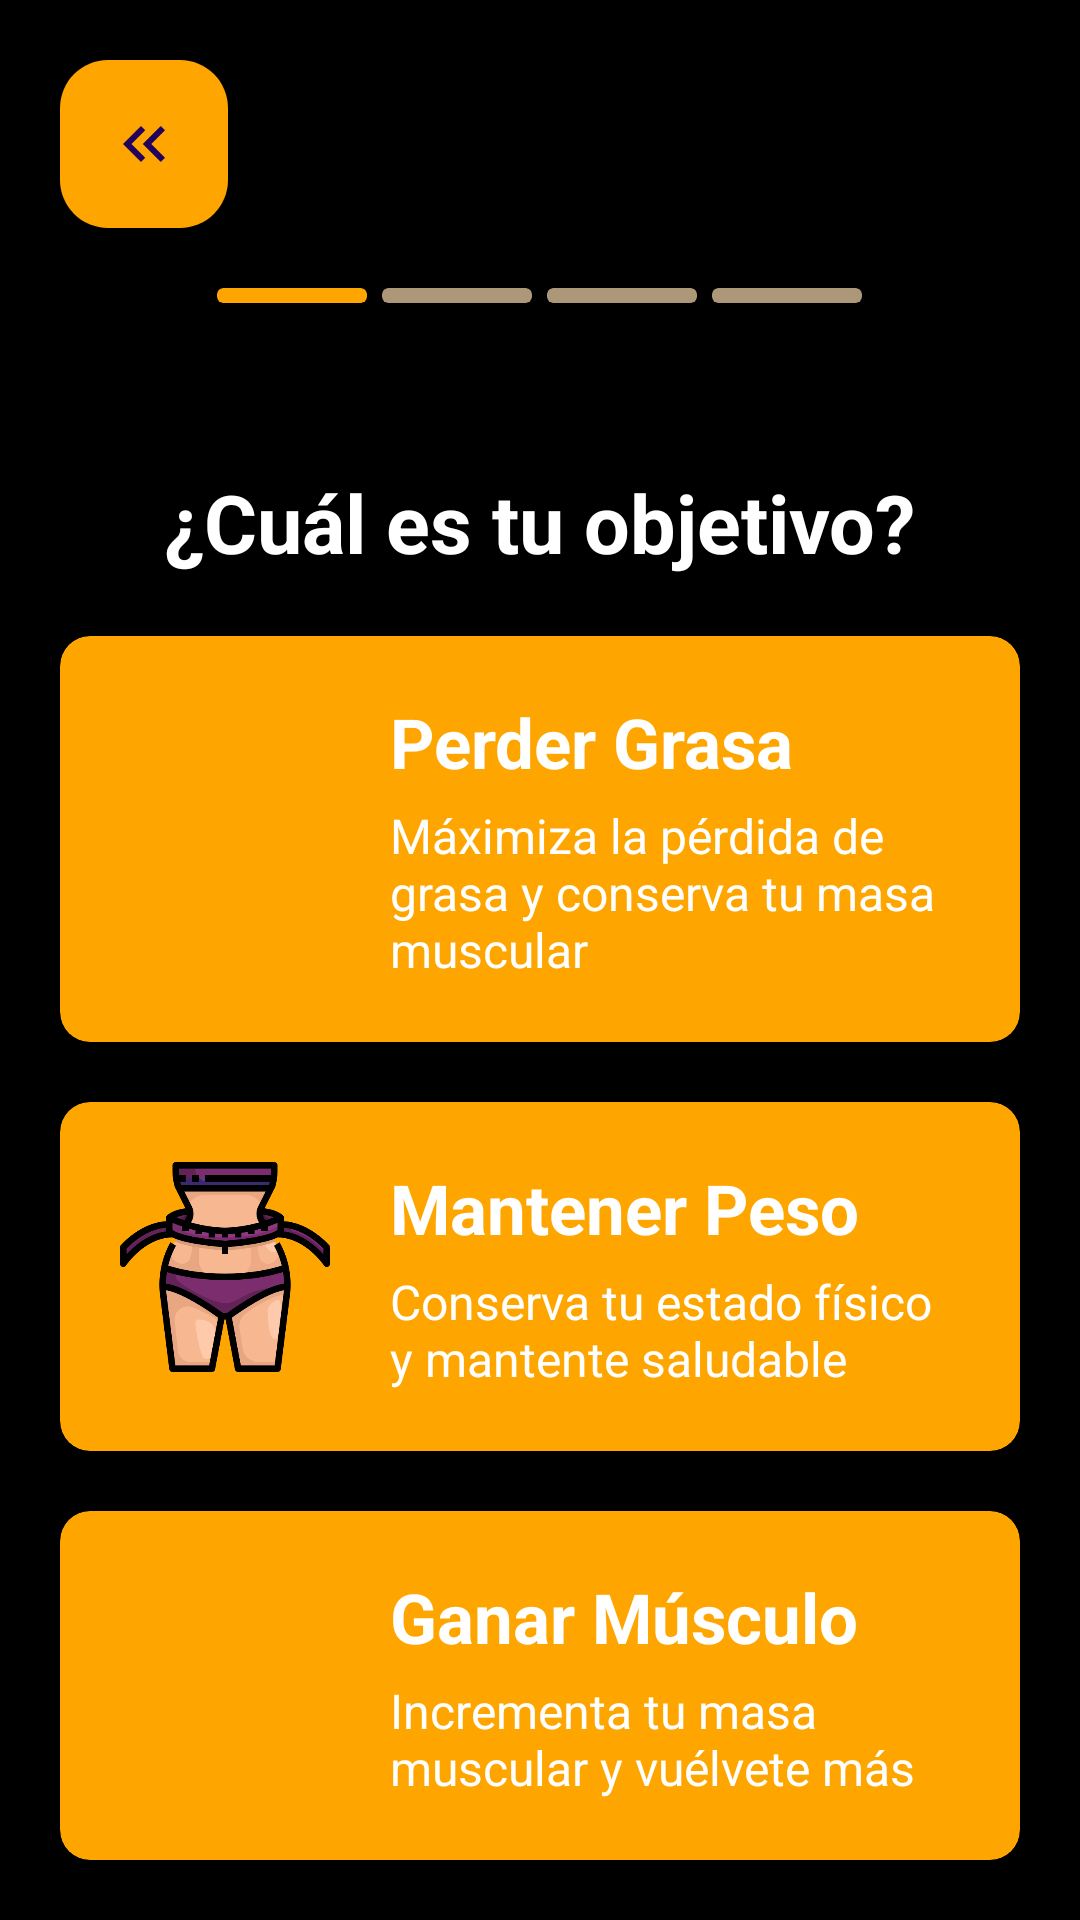

Icons on this 1080w x 1920h Android screen, each with its box as {"left": x1, "top": y1, "right": x2, "bottom": y2}:
arrowback: {"left": 60, "top": 60, "right": 228, "bottom": 228}
